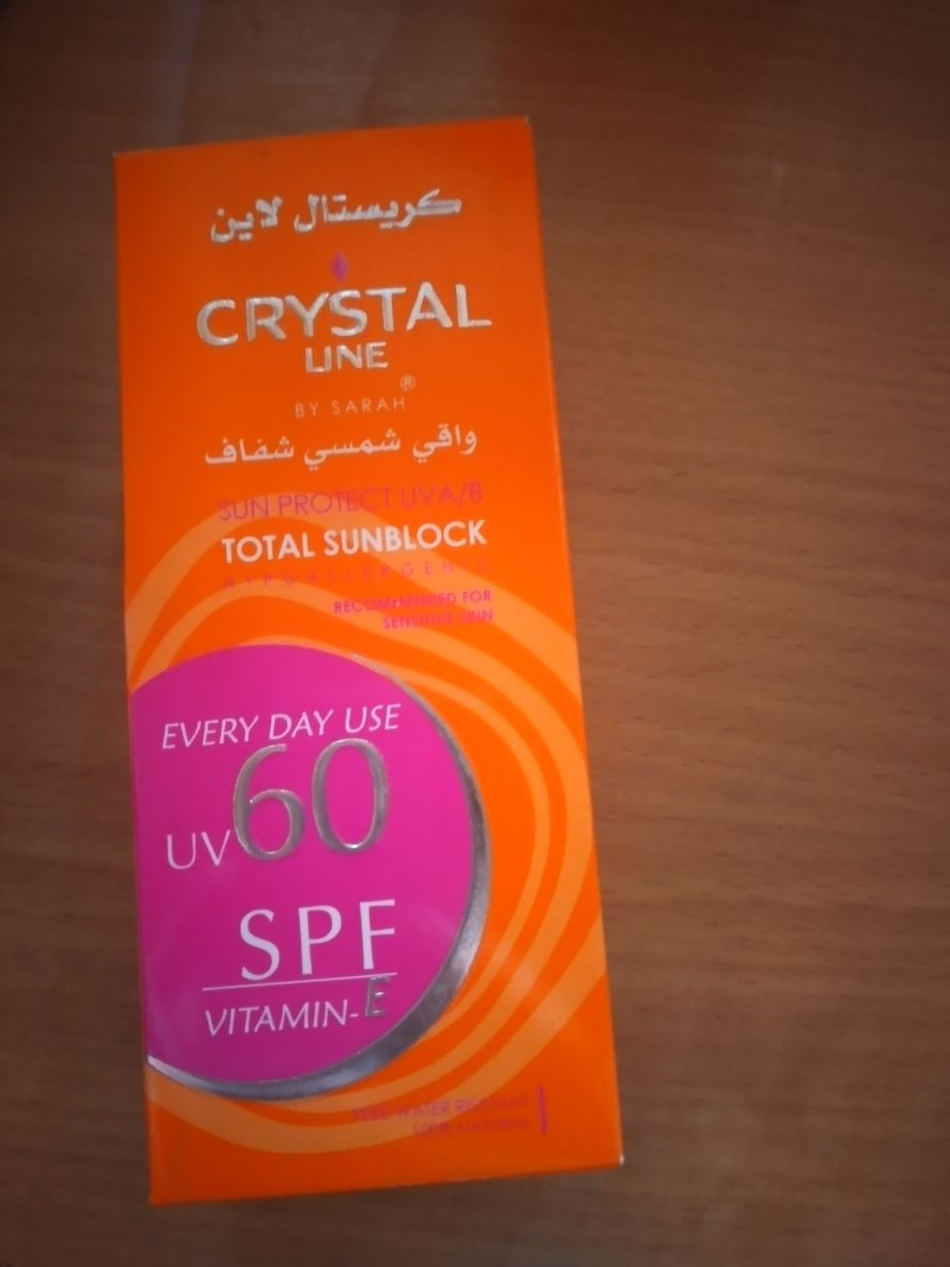Medicine: (86, 96, 650, 1208)
